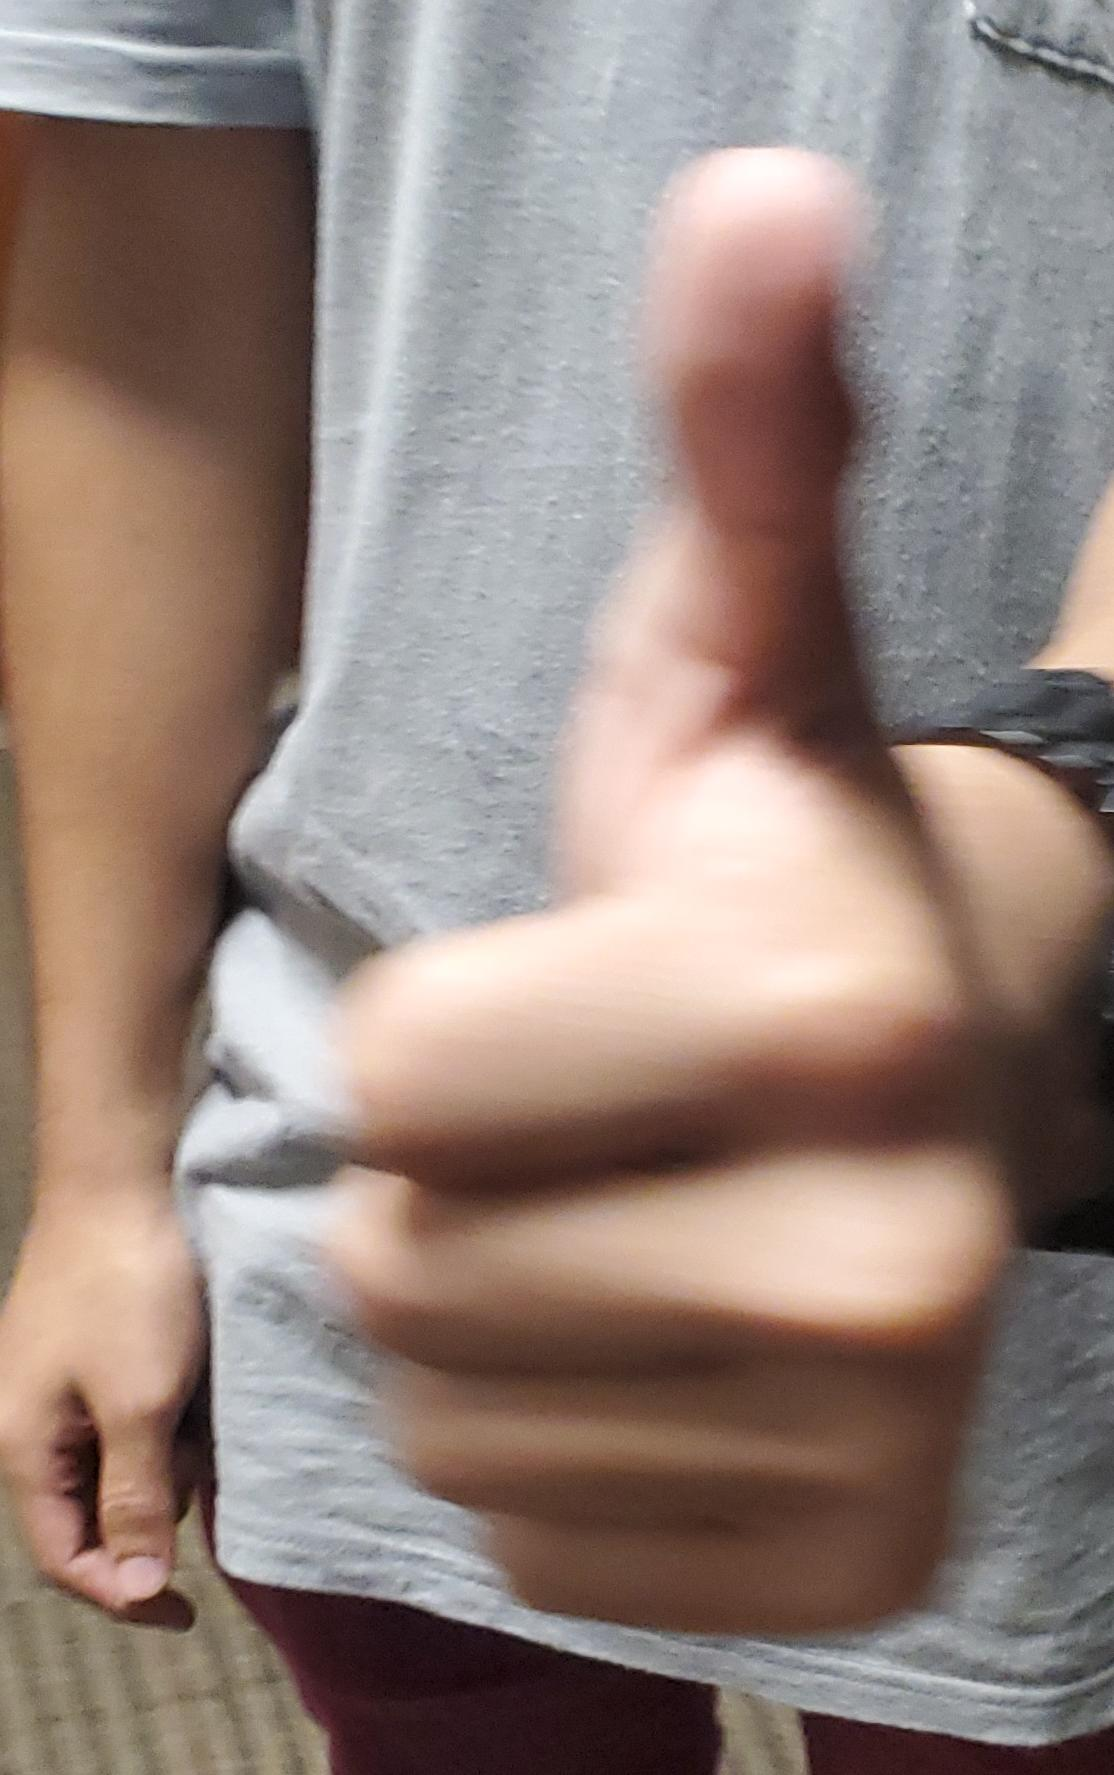up: (0, 1, 1114, 1775)
